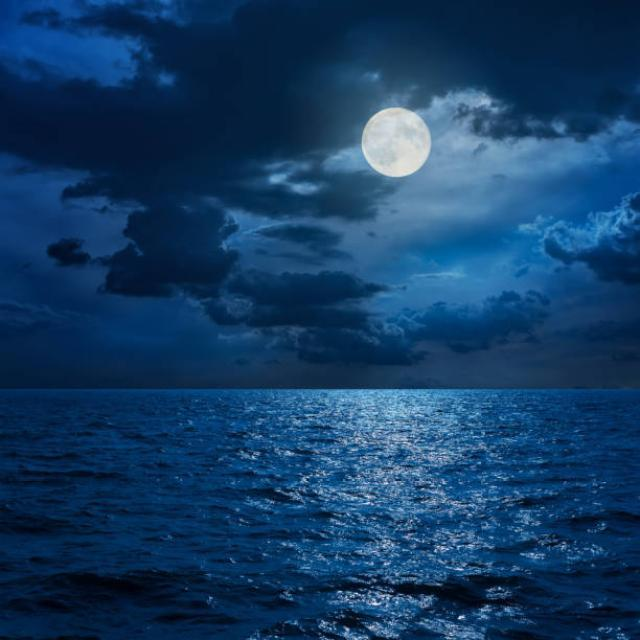moon: (356, 106, 434, 182)
